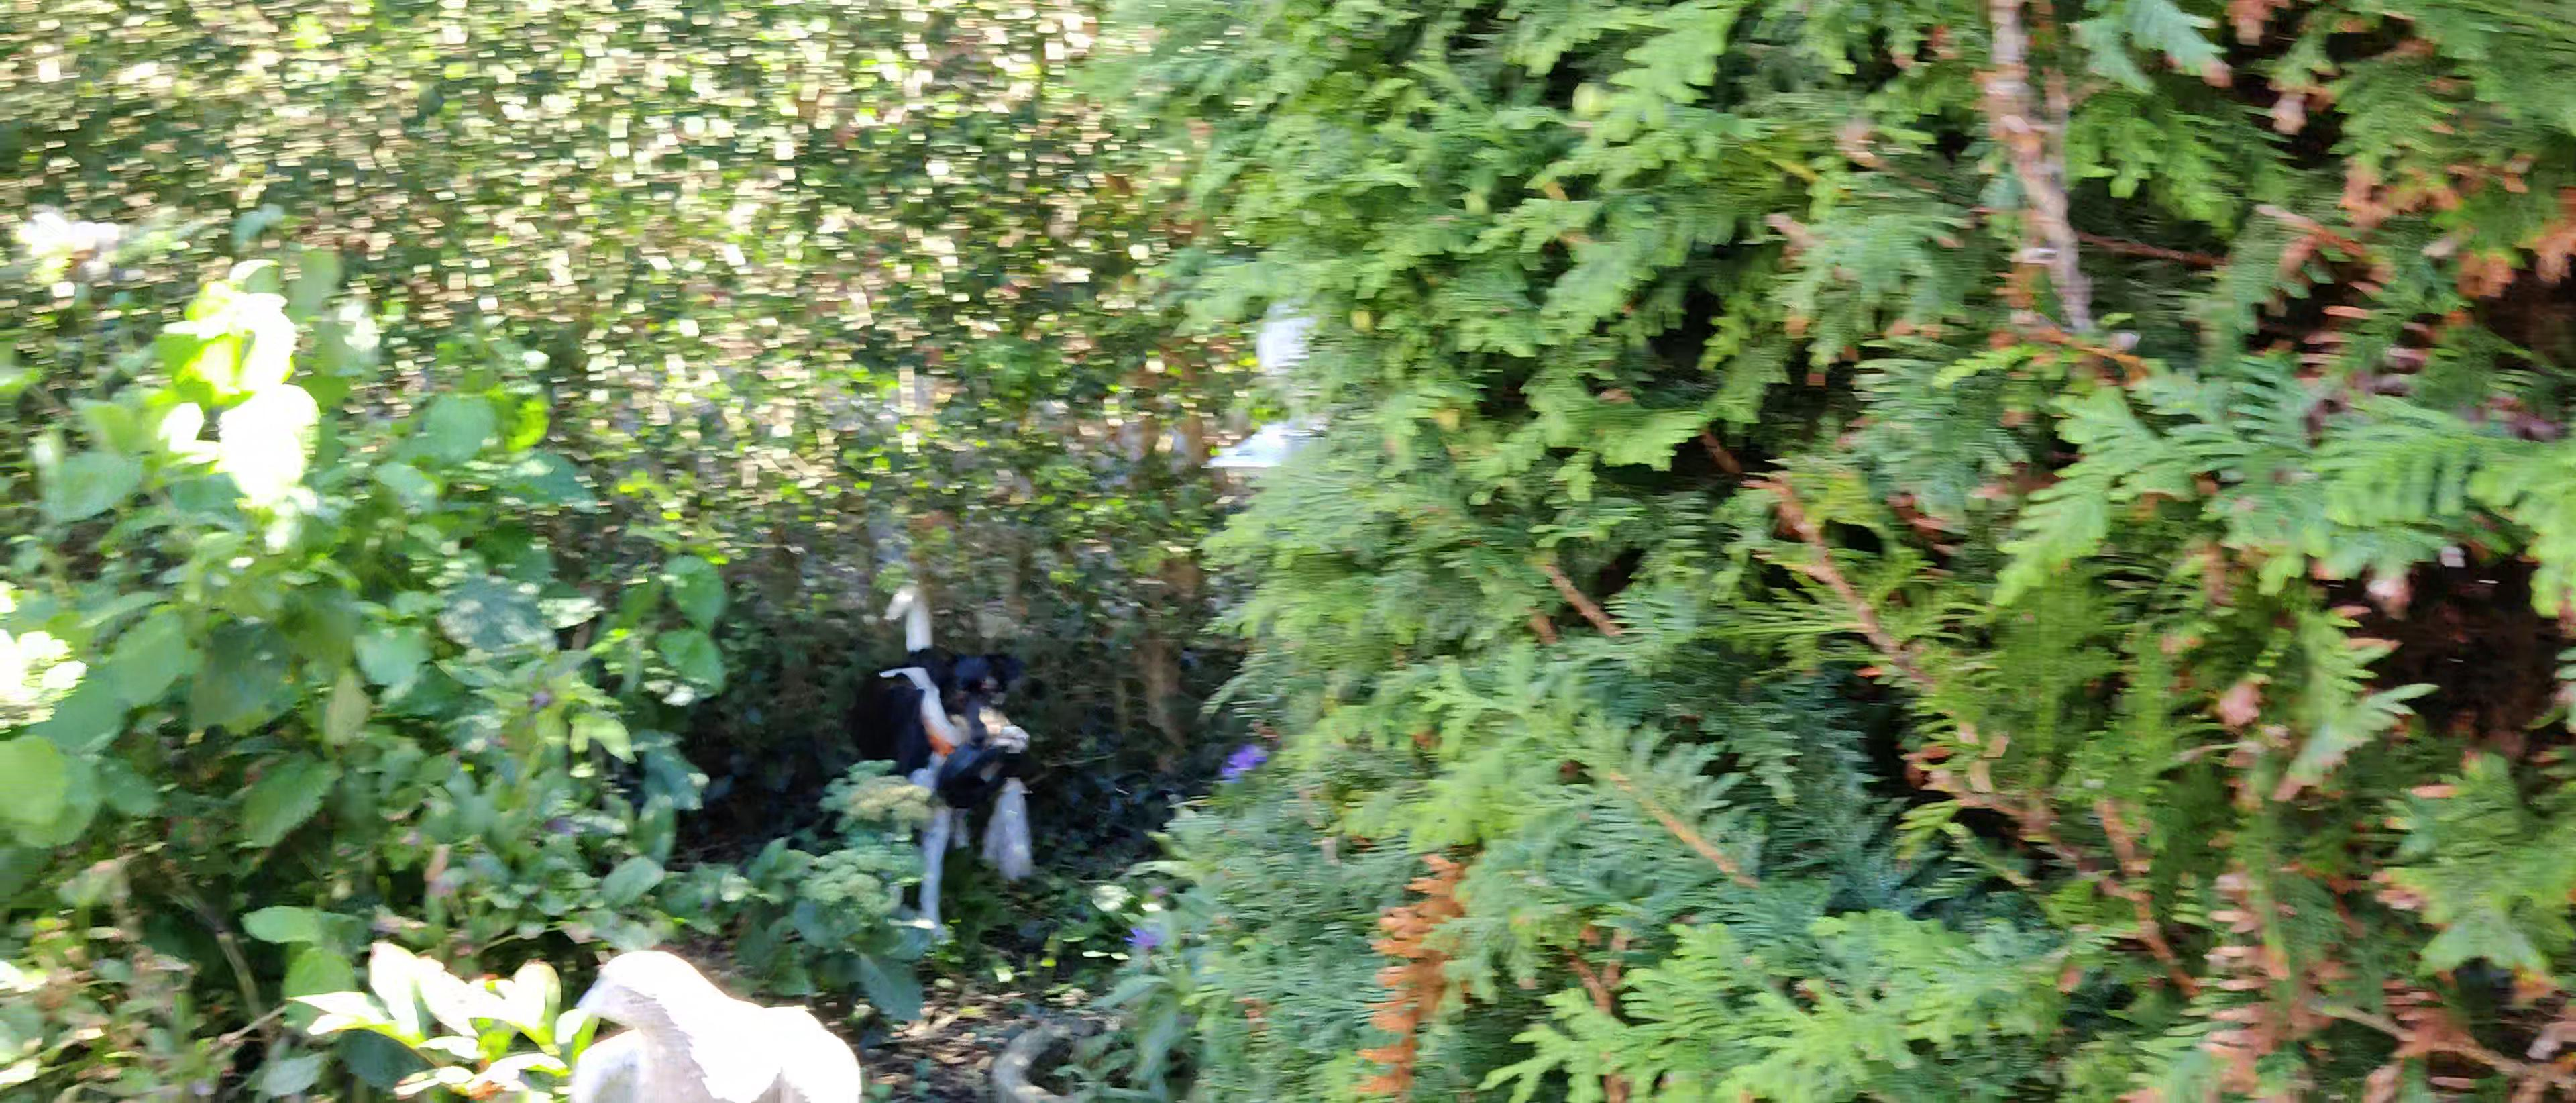Dog: (826, 574, 1051, 950)
